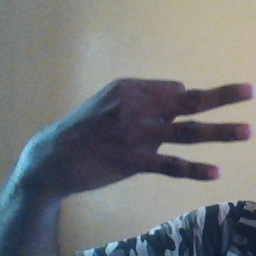K: (54, 76, 255, 200)
